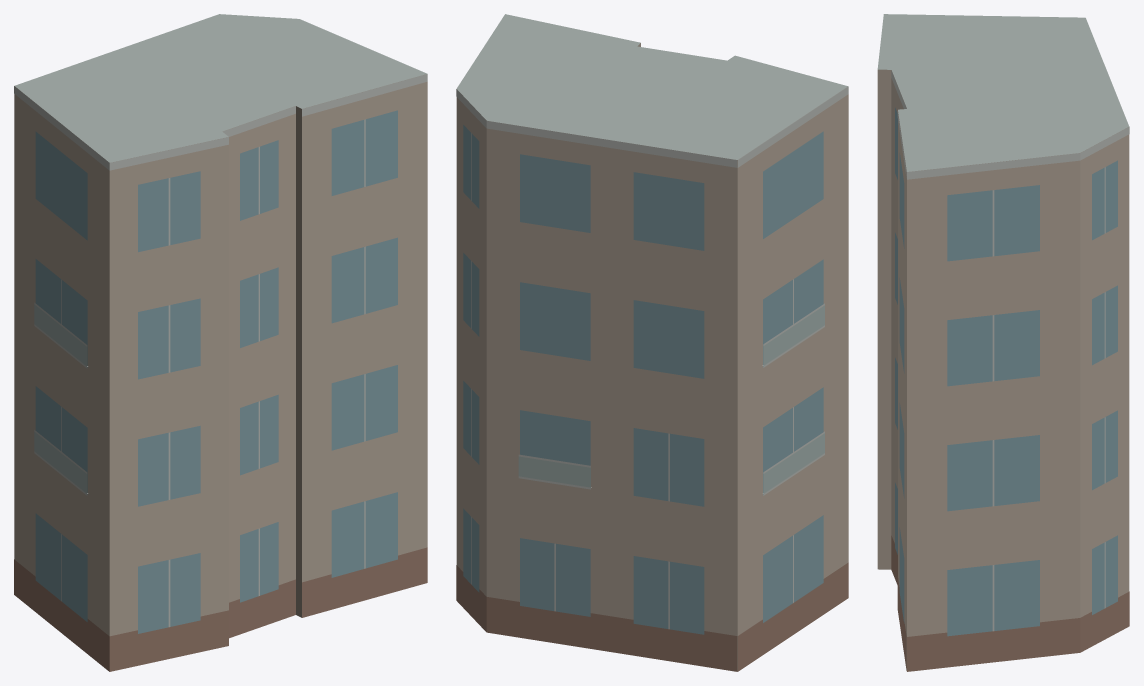
The model's file is survey-upis-32628459.glb.
The picture shows the model from 3 angles, left to right: view 1: azimuth 30°, elevation 25°; view 2: azimuth 150°, elevation 25°; view 3: azimuth 270°, elevation 25°; orthographic projection. The views are drawn at different scales.
Visible parts, largest first — view 1: survey-upis-32628459.tmp; view 2: survey-upis-32628459.tmp; view 3: survey-upis-32628459.tmp.
Part boxes in pixels (left/top/right/bottom): survey-upis-32628459.tmp: left=14, top=14, right=427, bottom=671; survey-upis-32628459.tmp: left=456, top=14, right=848, bottom=671; survey-upis-32628459.tmp: left=877, top=14, right=1129, bottom=671.
Bounding box in the file's own units: 10.79 × 15.9 × 7.27.
